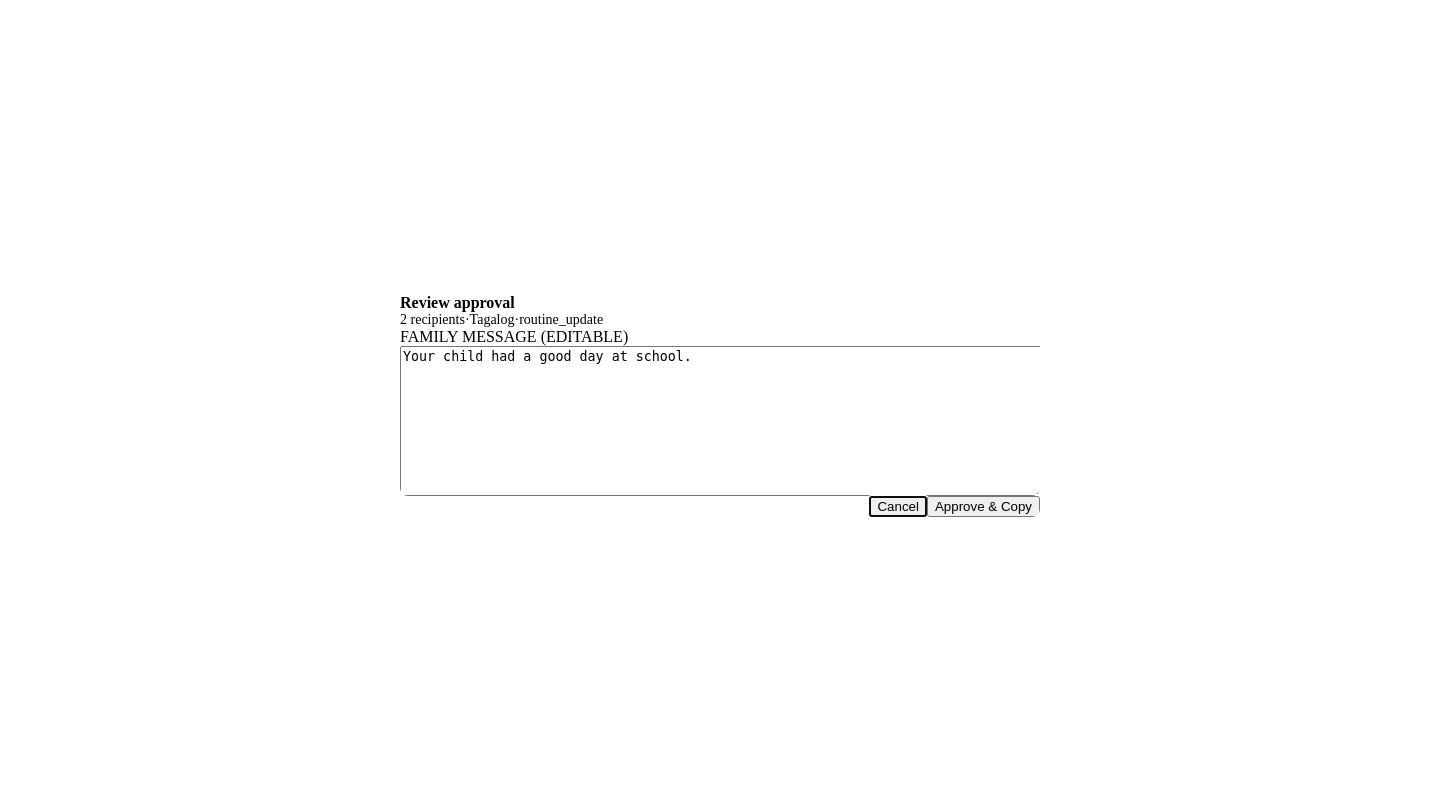
Test: MessageApprovalDialog › Approve & Copy is disabled when the teacher empties the textarea
The width and height of the screenshot is (1440, 810).
Step 1. Clear the text box showing "good day at school" → [723, 420], box [400,346,1046,496]
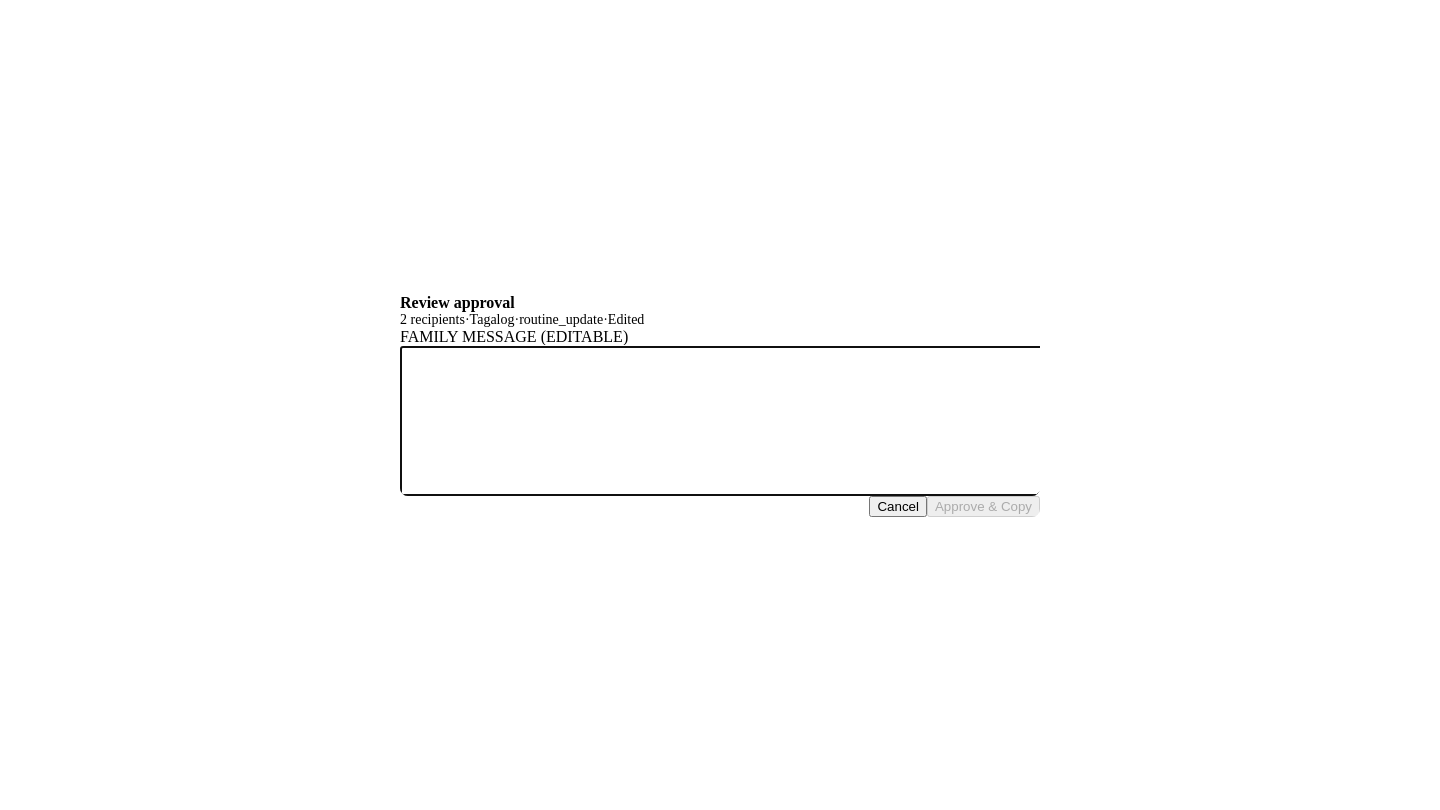
Now the button "Approve & Copy" is disabled, box [927,496,1040,516]
